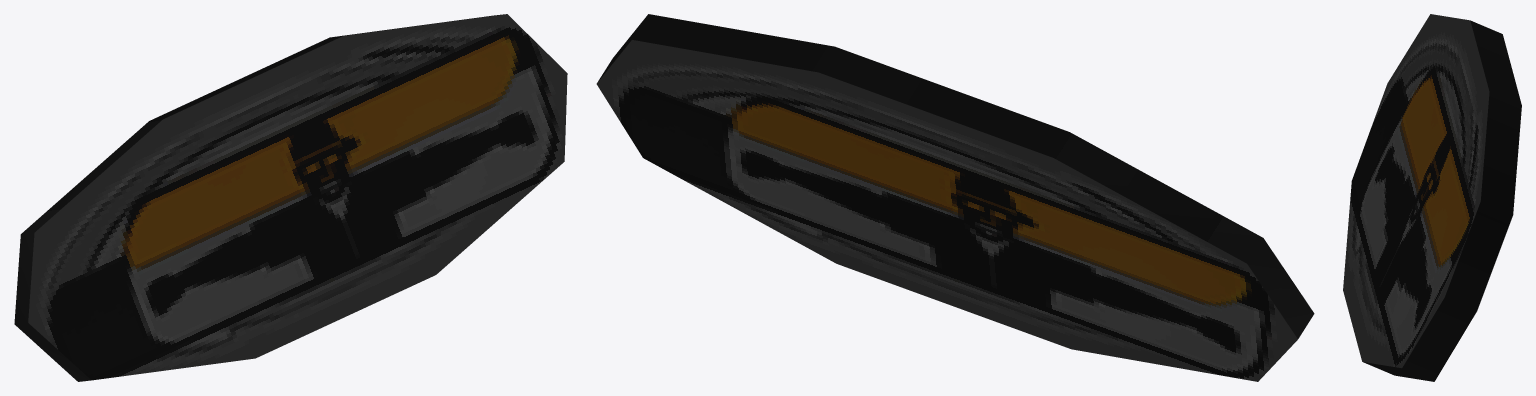
The model's file is ps2_save-icons_thps4-skatereduardo.glb.
3 renders of one model, left to right at view 1: azimuth 30°, elevation 25°; view 2: azimuth 150°, elevation 25°; view 3: azimuth 270°, elevation 25°, orthographic. The views are drawn at different scales.
Visible parts, largest first — view 1: THPS4 Skater:Eduardo; view 2: THPS4 Skater:Eduardo; view 3: THPS4 Skater:Eduardo.
Boxes of the visible parts, <box> form: THPS4 Skater:Eduardo: <box>14,14,567,381</box>; THPS4 Skater:Eduardo: <box>596,14,1314,381</box>; THPS4 Skater:Eduardo: <box>1343,14,1521,381</box>.
Size of the model in its own units: 5 by 2.14 by 1.16.
1 material, 1 textured.
